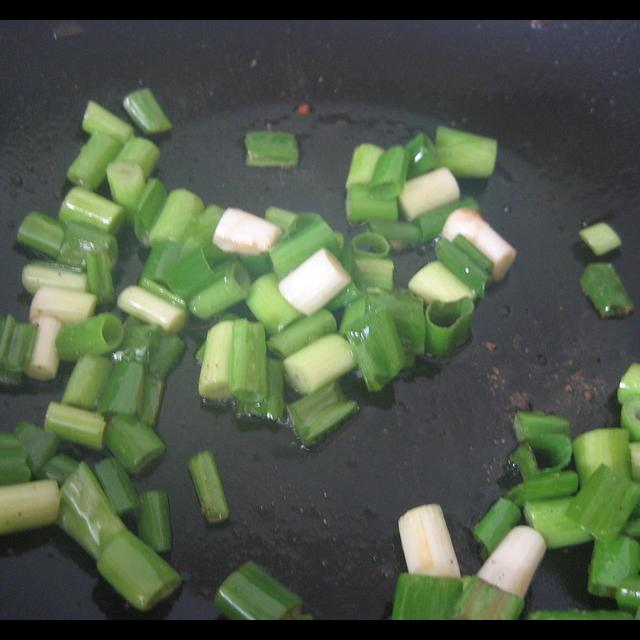green_onion: (0, 101, 477, 612), (346, 127, 516, 286), (527, 364, 640, 582), (394, 505, 548, 620)
